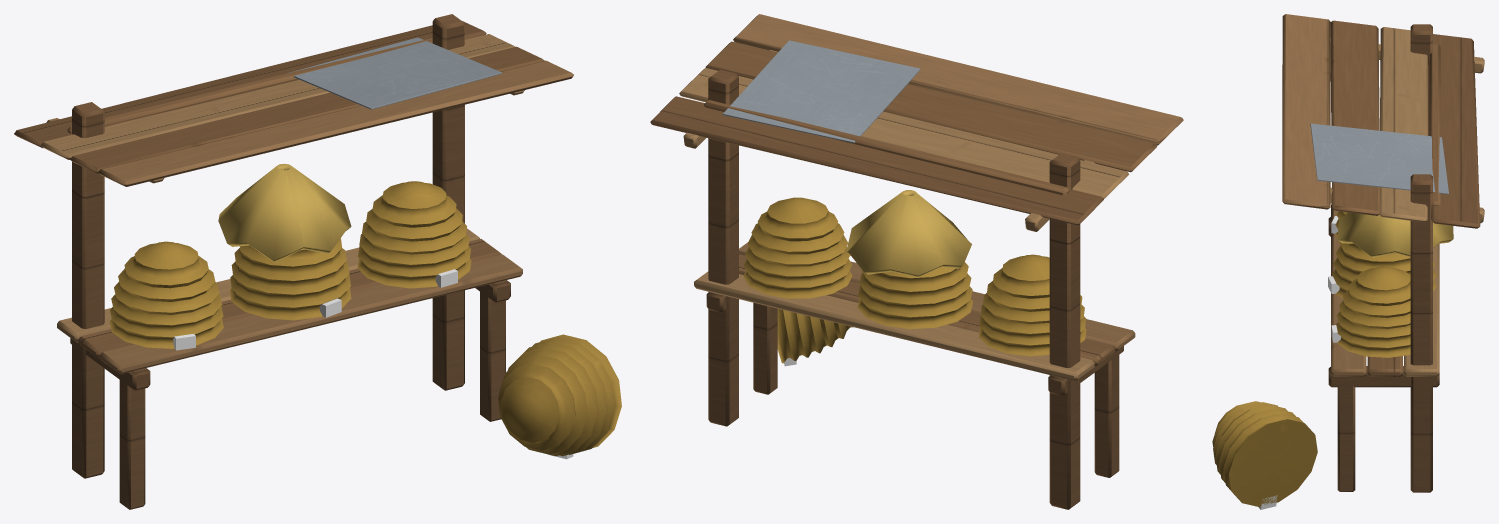
The model's file is bee_skep.glb.
3 renders of one model, left to right at view 1: azimuth 30°, elevation 25°; view 2: azimuth 150°, elevation 25°; view 3: azimuth 270°, elevation 25°, orthographic. The views are drawn at different scales.
Visible parts, largest first — view 1: bee_skep; view 2: bee_skep; view 3: bee_skep.
Boxes of the visible parts, x1,y1,x2,y2 form: bee_skep: (14, 14, 621, 509); bee_skep: (650, 14, 1183, 509); bee_skep: (1212, 14, 1484, 509).
Size of the model in its own units: 2.07 by 1.59 by 1.23.
Materials: 9 (9 with a texture image).
